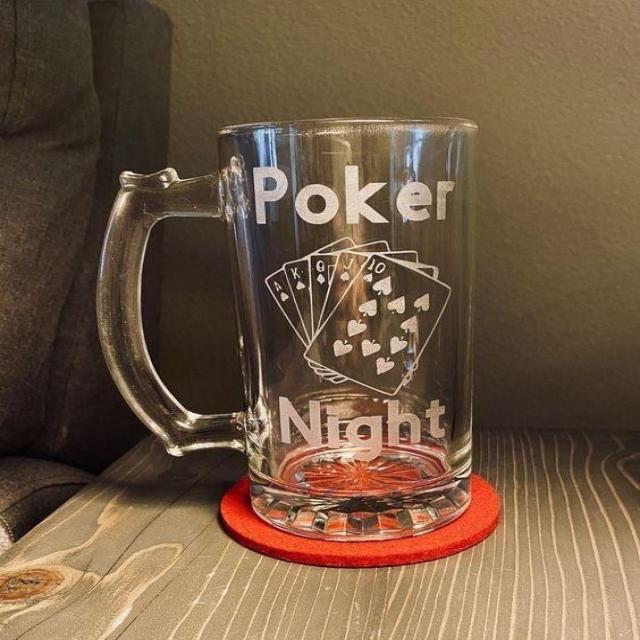glass-mug: (85, 106, 491, 550)
